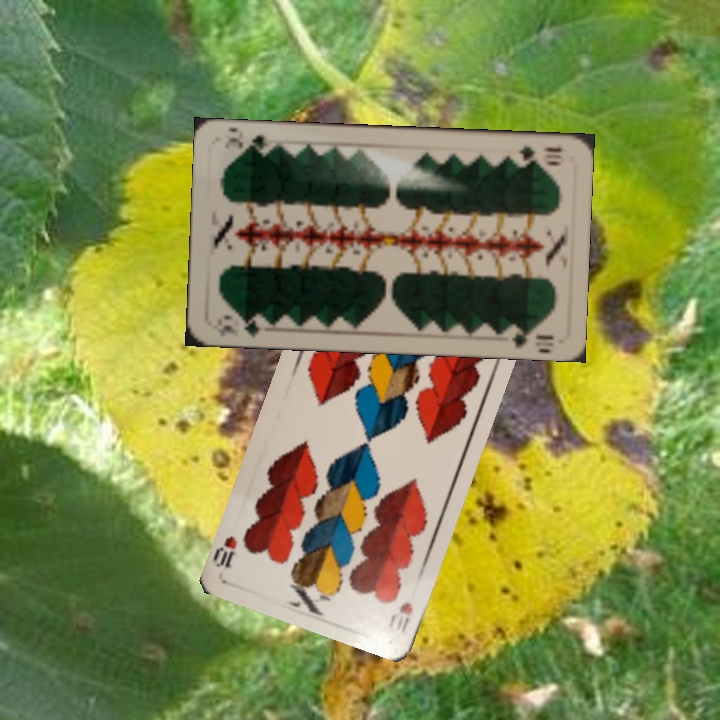G10: (215, 312, 270, 340), (515, 142, 564, 167)
H10: (384, 598, 416, 637)
